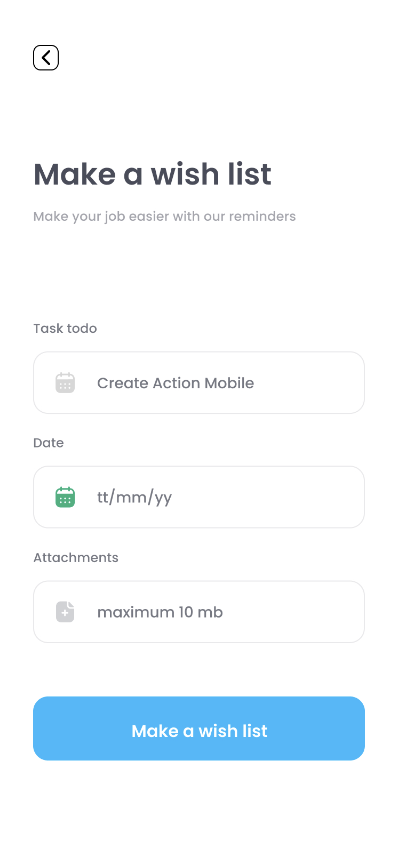Input: (29, 461, 368, 532), (31, 576, 367, 647), (32, 348, 368, 418)
